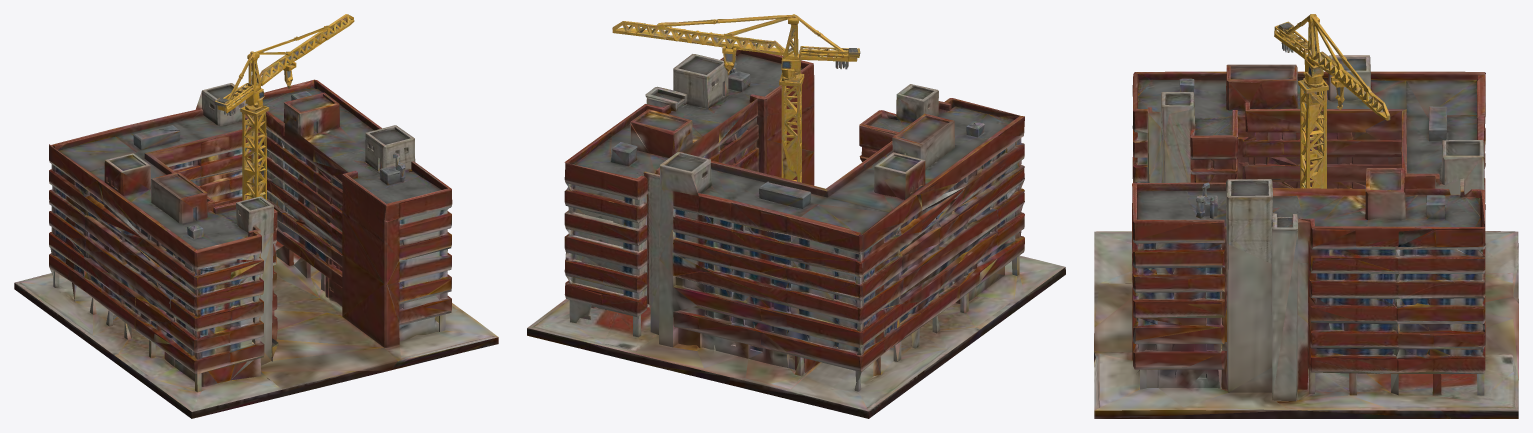
Rendered from popolari.glb.
3 renders of one model, left to right at view 1: azimuth 30°, elevation 25°; view 2: azimuth 150°, elevation 25°; view 3: azimuth 270°, elevation 25°, orthographic. The views are drawn at different scales.
Visible parts, largest first — view 1: output_unwrapped; view 2: output_unwrapped; view 3: output_unwrapped.
Part boxes in pixels (<box>): output_unwrapped: <box>14,14,498,418</box>; output_unwrapped: <box>527,14,1065,418</box>; output_unwrapped: <box>1094,14,1518,418</box>.
Size of the model in its own units: 1.9 by 1.55 by 1.9.
1 material, 1 textured.
